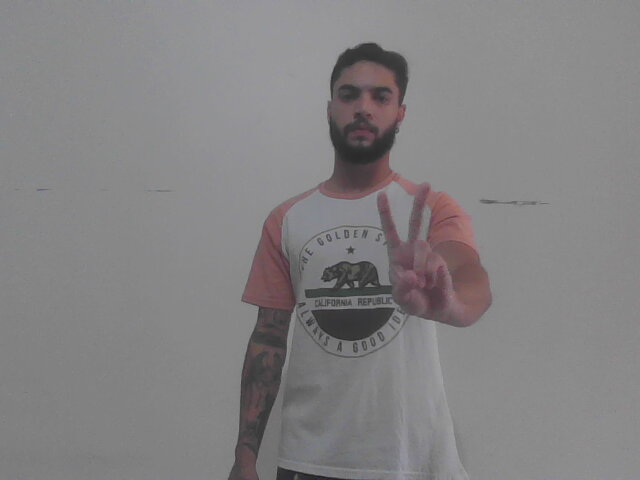v: (373, 180, 457, 325)
